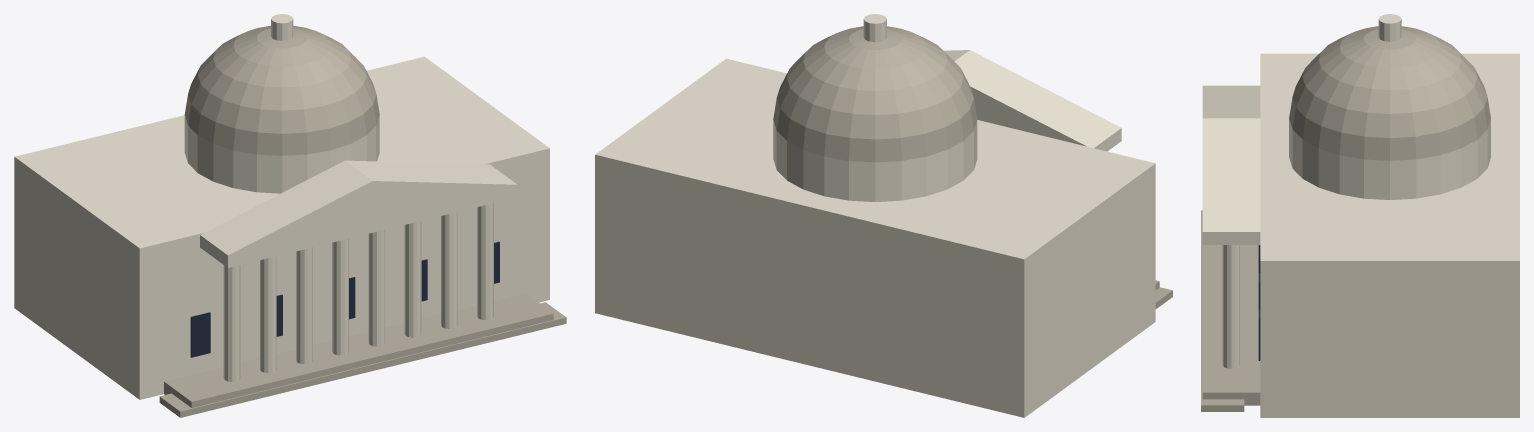
Rendered from dome_hall.glb.
3 renders of one model, left to right at view 1: azimuth 30°, elevation 25°; view 2: azimuth 150°, elevation 25°; view 3: azimuth 270°, elevation 25°, orthographic. The views are drawn at different scales.
Parts seen in each view (by area): view 1: dome_hall; view 2: dome_hall; view 3: dome_hall.
Boxes of the visible parts, x1,y1,x2,y2 form: dome_hall: (14, 14, 566, 417); dome_hall: (595, 14, 1172, 417); dome_hall: (1201, 14, 1519, 417).
Size of the model in its own units: 34 by 22.6 by 22.1.
